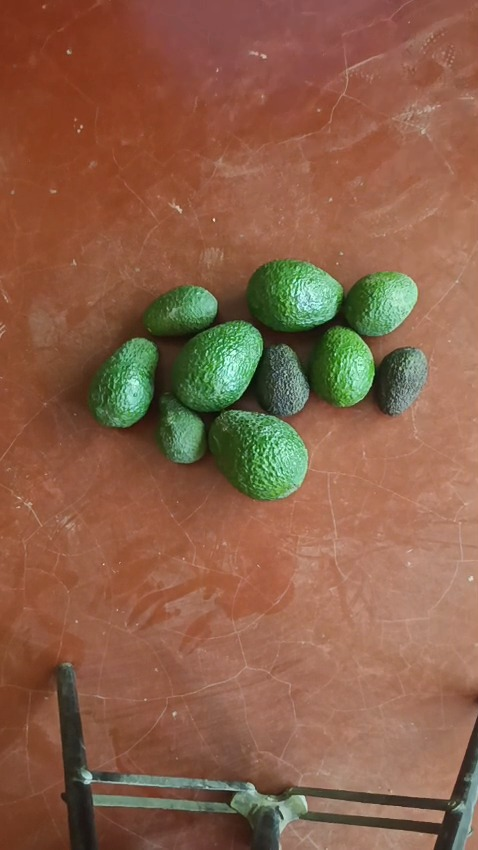Primera: (208, 410, 308, 498), (171, 320, 264, 413)
Segunda: (246, 259, 344, 332), (88, 337, 159, 428)
Tercera: (307, 326, 374, 408), (343, 271, 419, 338), (253, 342, 309, 416), (143, 286, 217, 338), (374, 346, 428, 416), (156, 392, 207, 463)
